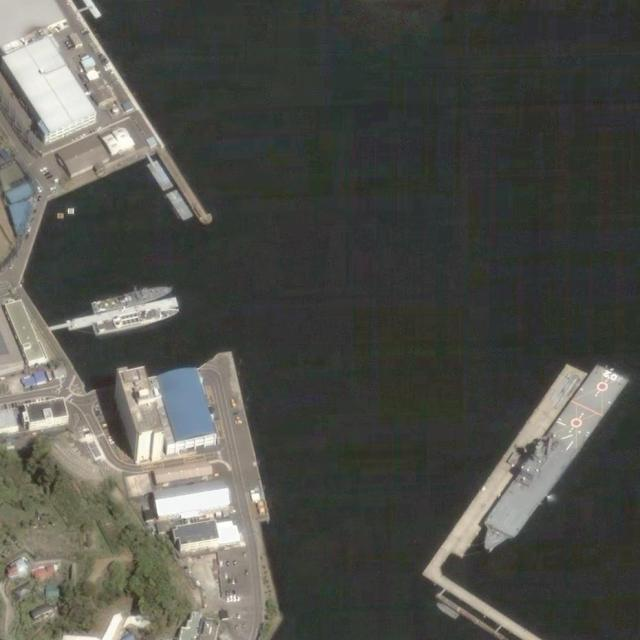Dock: (429, 359, 592, 577)
Landing: (469, 358, 629, 559)
Other Warship: (93, 303, 181, 339), (91, 281, 175, 315)
